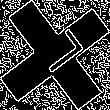L_SW: (25, 27, 85, 83)
